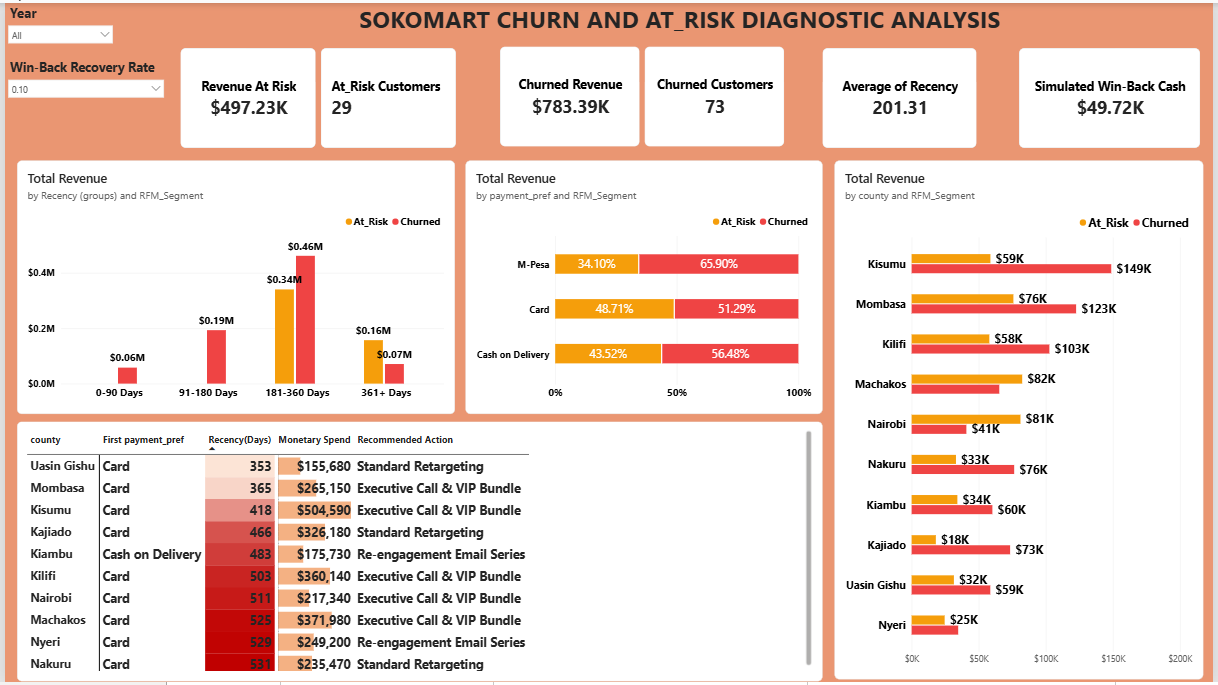

The page's visual inventory and layout, read from the dashboard file:
{"tool":"powerbi","page":{"name":"Churn & At-Risk Diagnostic","canvas":[1920,1080],"ordinal":4},"visuals":[{"type":"textbox","box":[384.1,0,1379.1,69.2],"z":0},{"type":"cardVisual","fields":{"Data":["My_Measure.Revenue At Risk","My_Measure.At_RiskCustomers"]},"box":[279.2,71.6,439,159.9],"z":1000},{"type":"cardVisual","fields":{"Data":["My_Measure.Churned Revenue","My_Measure.ChurnedCustomers"]},"box":[787.4,69.2,453.3,159.9],"z":2000},{"type":"cardVisual","fields":{"Data":["Avg(soko_mart customers.Recency)"]},"box":[1300.3,71.6,245.7,159.9],"z":3000},{"type":"cardVisual","fields":{"Data":["My_Measure.Simulated Win-Back Cash"]},"box":[1612.9,71.6,288.7,159.9],"z":4000},{"type":"slicer","fields":{"Values":["Win-Back Recovery Rate.Win-Back Recovery Rate"]},"box":[0,88.6,257.7,81.1],"z":5000},{"type":"clusteredColumnChart","fields":{"Category":["soko_mart customers.Recency (groups)"],"Series":["soko_mart customers.RFM_Segment"],"Y":["My_Measure.Total Revenue"]},"box":[19.1,250.5,696.7,403.2],"z":6000},{"type":"clusteredBarChart","fields":{"Category":["soko_mart customers.county"],"Series":["soko_mart customers.RFM_Segment"],"Y":["My_Measure.Total Revenue"]},"box":[1319.4,250.5,586.9,825.5],"z":7000},{"type":"hundredPercentStackedBarChart","fields":{"Category":["soko_mart customers.payment_pref"],"Series":["soko_mart customers.RFM_Segment"],"Y":["My_Measure.Total Revenue"]},"box":[732.5,250.5,567.8,403.2],"z":8000},{"type":"pivotTable","fields":{"Rows":["soko_mart customers.county"],"Values":["Min(soko_mart customers.payment_pref)","Max(soko_mart customers.Recency)","Sum(soko_mart customers.Monetary)","Min(soko_mart customers.Action Tag)"]},"box":[18.2,665.5,1281,413.4],"z":9000},{"type":"slicer","fields":{"Values":["Date.Year"]},"box":[0,0,176.6,71.6],"z":10000}]}

Visuals, with their boxes in screenshot pixels (x1, y1, x2, y2), scaled from the page's 1920x1080 canvas onto the 1218x685 screenshot:
textbox: 244/0/1119/44
cardVisual - My_Measure.Revenue At Risk x My_Measure.At_RiskCustomers: 177/45/456/147
cardVisual - My_Measure.Churned Revenue x My_Measure.ChurnedCustomers: 500/44/787/145
cardVisual - Avg(soko_mart customers.Recency): 825/45/981/147
cardVisual - My_Measure.Simulated Win-Back Cash: 1023/45/1206/147
slicer - Win-Back Recovery Rate.Win-Back Recovery Rate: 0/56/163/108
clusteredColumnChart - soko_mart customers.Recency (groups) x soko_mart customers.RFM_Segment: 12/159/454/415
clusteredBarChart - soko_mart customers.county x soko_mart customers.RFM_Segment: 837/159/1209/682
hundredPercentStackedBarChart - soko_mart customers.payment_pref x soko_mart customers.RFM_Segment: 465/159/825/415
pivotTable - soko_mart customers.county x Min(soko_mart customers.payment_pref): 12/422/824/684
slicer - Date.Year: 0/0/112/45
